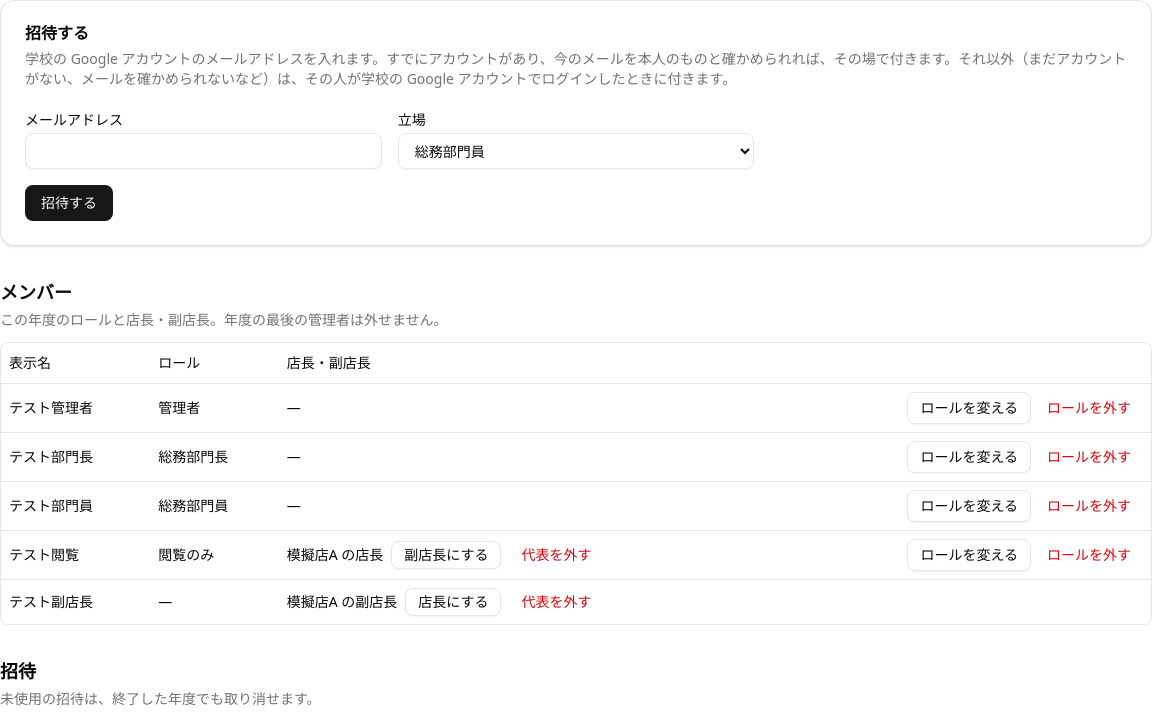
it: 招待の立場（段ごと。D-50） › ロールの招待は p_role だけを送る（前に選んだ団体は送らない）
Expected: the form with test id "invite-form" is shown, [25, 110, 754, 221]
Select "店長" in the dropdown labelled "立場" at {"x": 576, "y": 151}, box [398, 133, 754, 169]
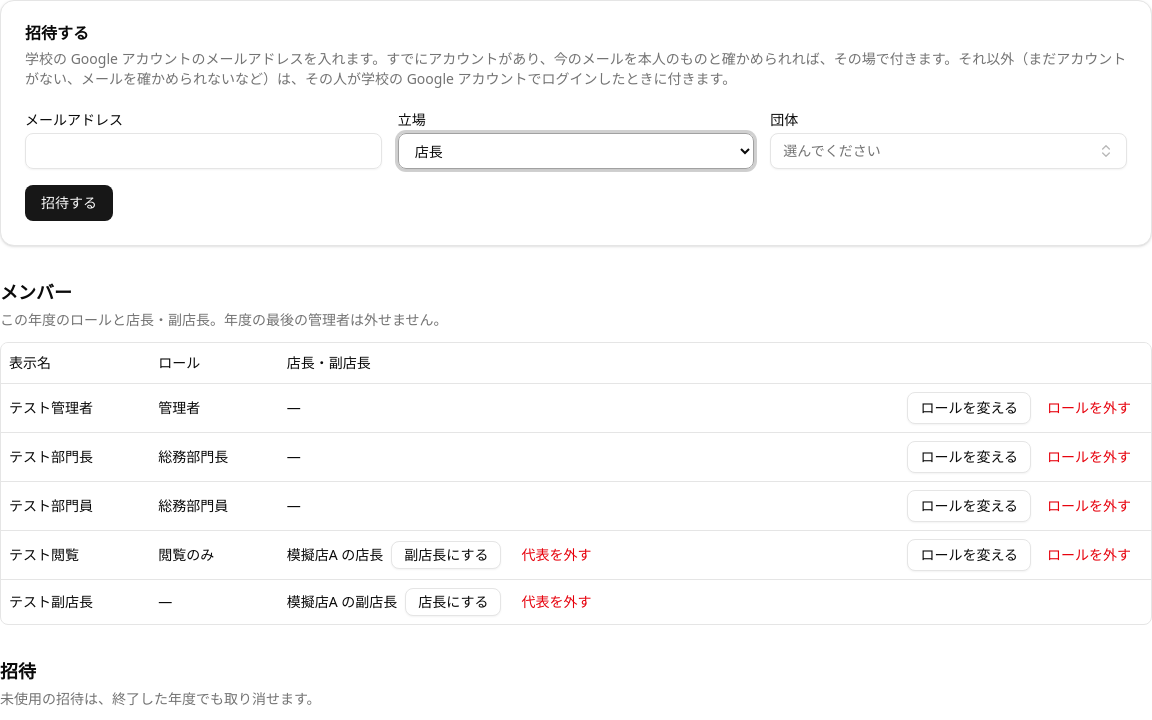
Click the dropdown named "団体" at {"x": 832, "y": 150}, box [770, 133, 1127, 169]
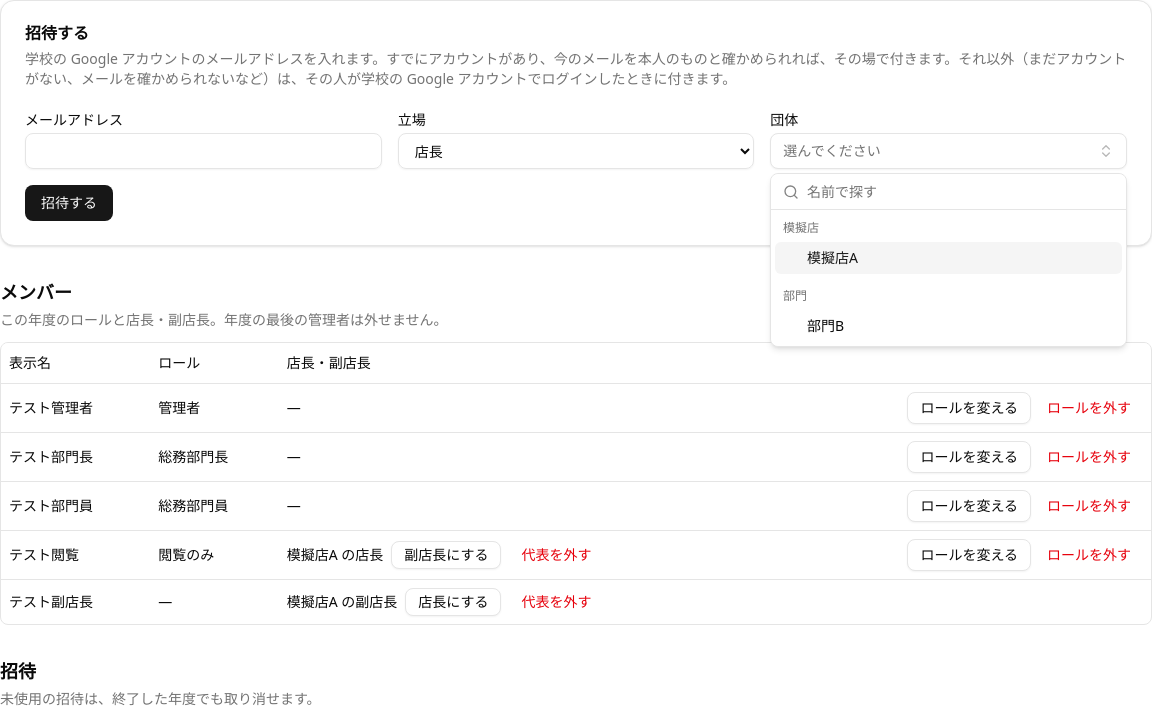
Click the option "部門B" at {"x": 826, "y": 326}, box [807, 316, 844, 335]
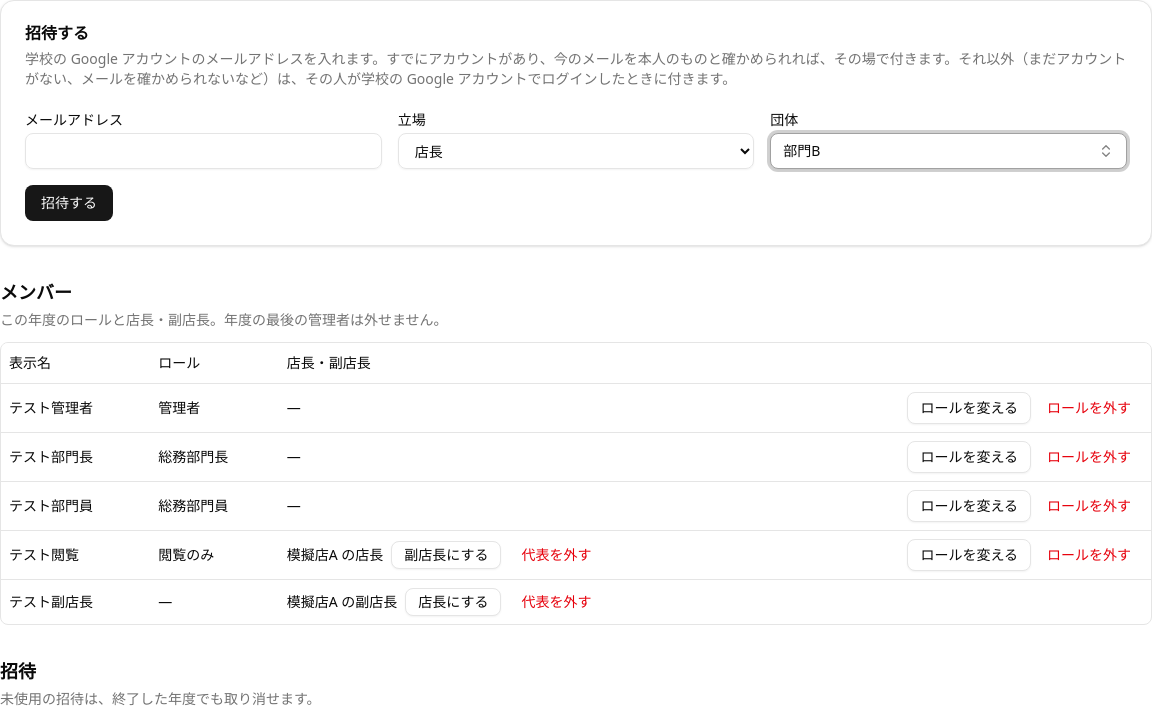
Select "総務部門長" in the dropdown labelled "立場" at {"x": 576, "y": 151}, box [398, 133, 754, 169]
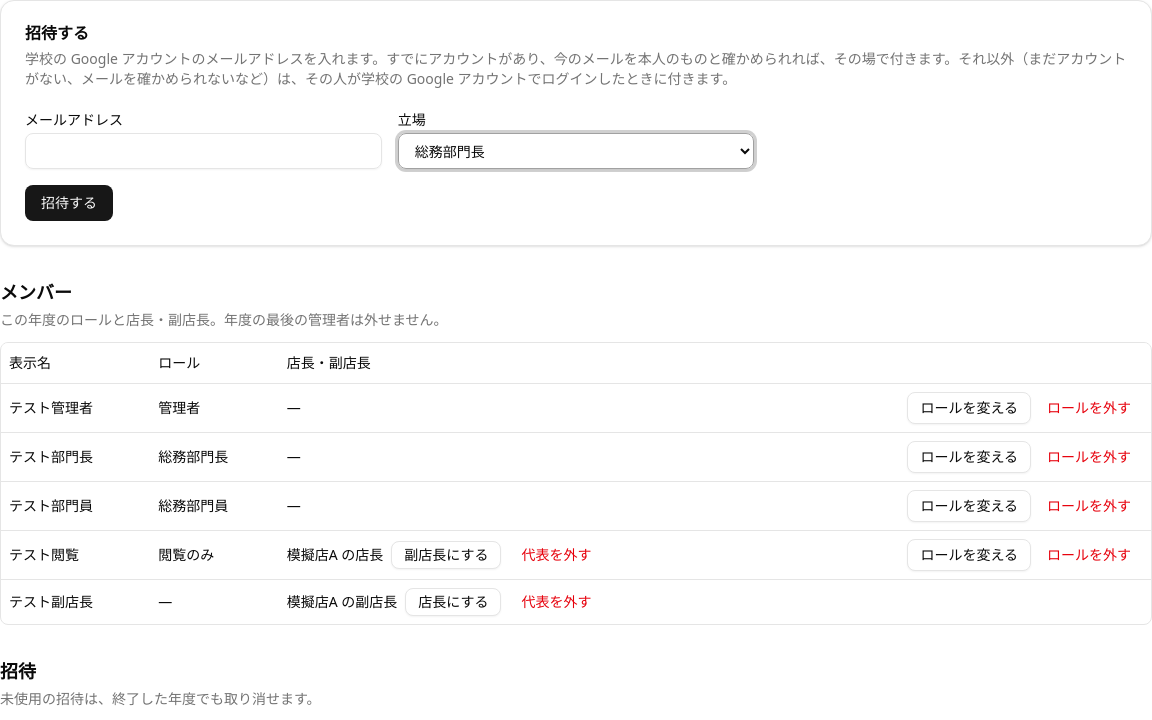
Type "new-head@example.test" into the field labelled "メールアドレス" at {"x": 203, "y": 151}, box [25, 133, 382, 169]
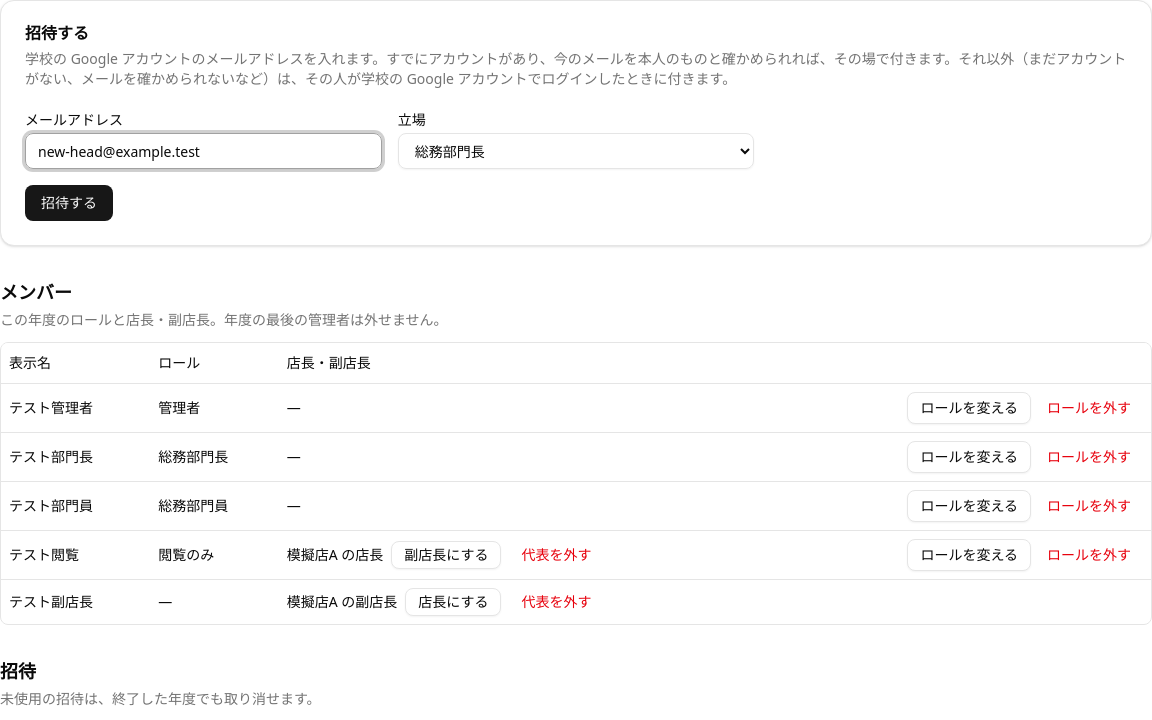
Click the button "招待する" at {"x": 69, "y": 203}, box [25, 185, 113, 221]
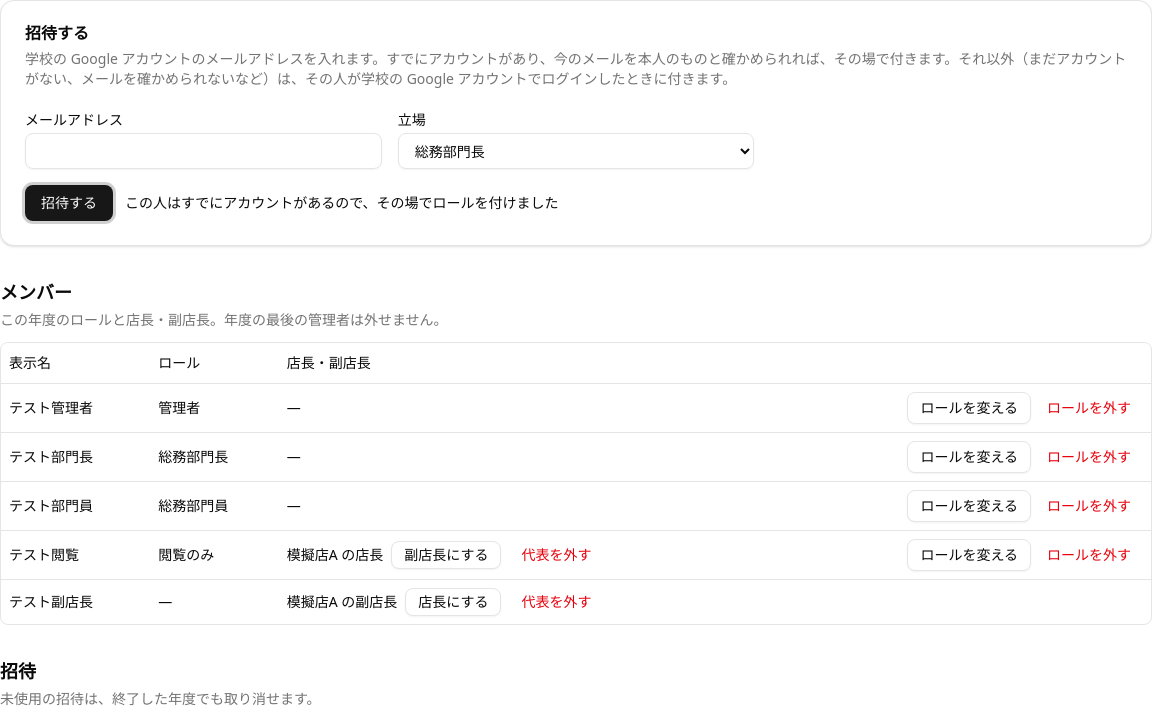
Expected: the message with test id "invite-result" reads "この人はすでにアカウントがあるので、その場でロールを付けました", [125, 193, 559, 212]
